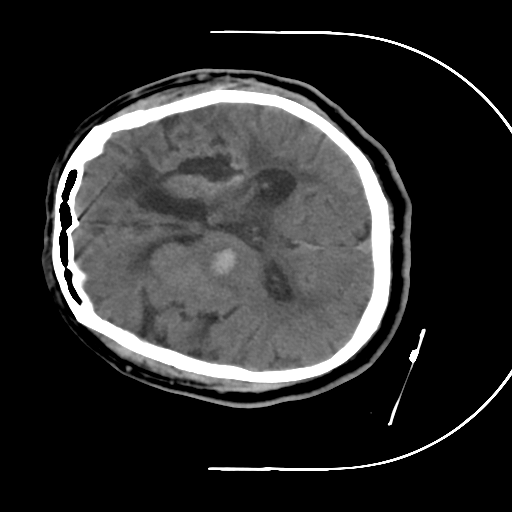a: (189, 230, 252, 301)
